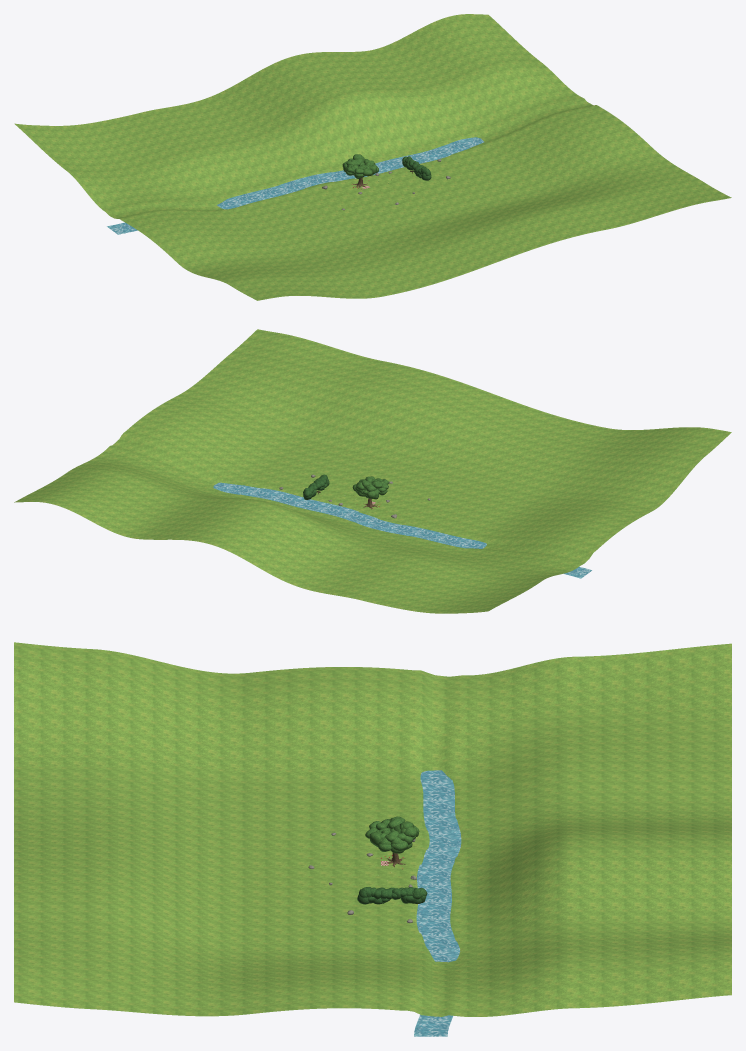
Rendered from ch1_s1_bank.glb.
3 views of the same model, one above another, from view 1: azimuth 30°, elevation 25°; view 2: azimuth 150°, elevation 25°; view 3: azimuth 270°, elevation 25° (orthographic). The views are drawn at different scales.
Parts seen in each view (by area): view 1: S1_Terrain, Water_River, S1_Oak_Canopy; view 2: S1_Terrain, Water_River, S1_Oak_Canopy; view 3: S1_Terrain, Water_River, S1_Oak_Canopy, S1_Hedge.
Part boxes in pixels (x1=…): S1_Terrain: x1=14, y1=14, x2=731, y2=300; Water_River: x1=107, y1=137, x2=484, y2=234; S1_Oak_Canopy: x1=342, y1=154, x2=378, y2=178; S1_Terrain: x1=14, y1=329, x2=731, y2=613; Water_River: x1=213, y1=482, x2=591, y2=578; S1_Oak_Canopy: x1=352, y1=476, x2=389, y2=499; S1_Terrain: x1=14, y1=642, x2=731, y2=1016; Water_River: x1=414, y1=770, x2=461, y2=1036; S1_Oak_Canopy: x1=365, y1=816, x2=419, y2=853; S1_Hedge: x1=357, y1=887, x2=427, y2=904.
Bounding box in the file's own units: 144 × 10.89 × 128.
Materials: 13 (7 with a texture image).
